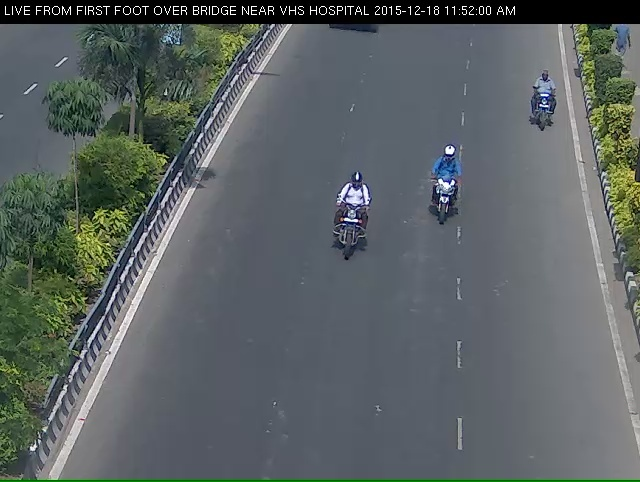Person: (333, 198, 369, 289), (518, 71, 558, 142), (432, 162, 457, 246)
